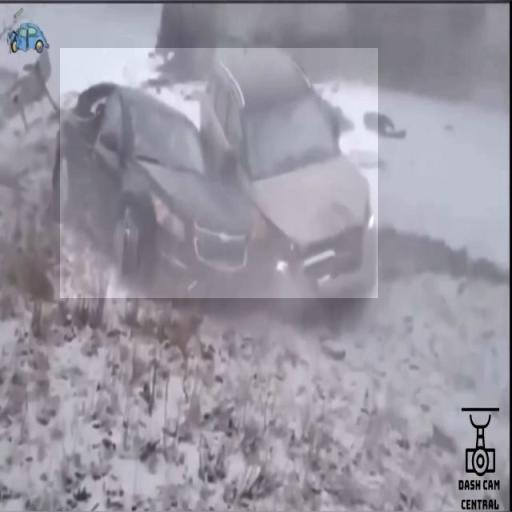小汽车撞小汽车: (60, 48, 378, 298)
